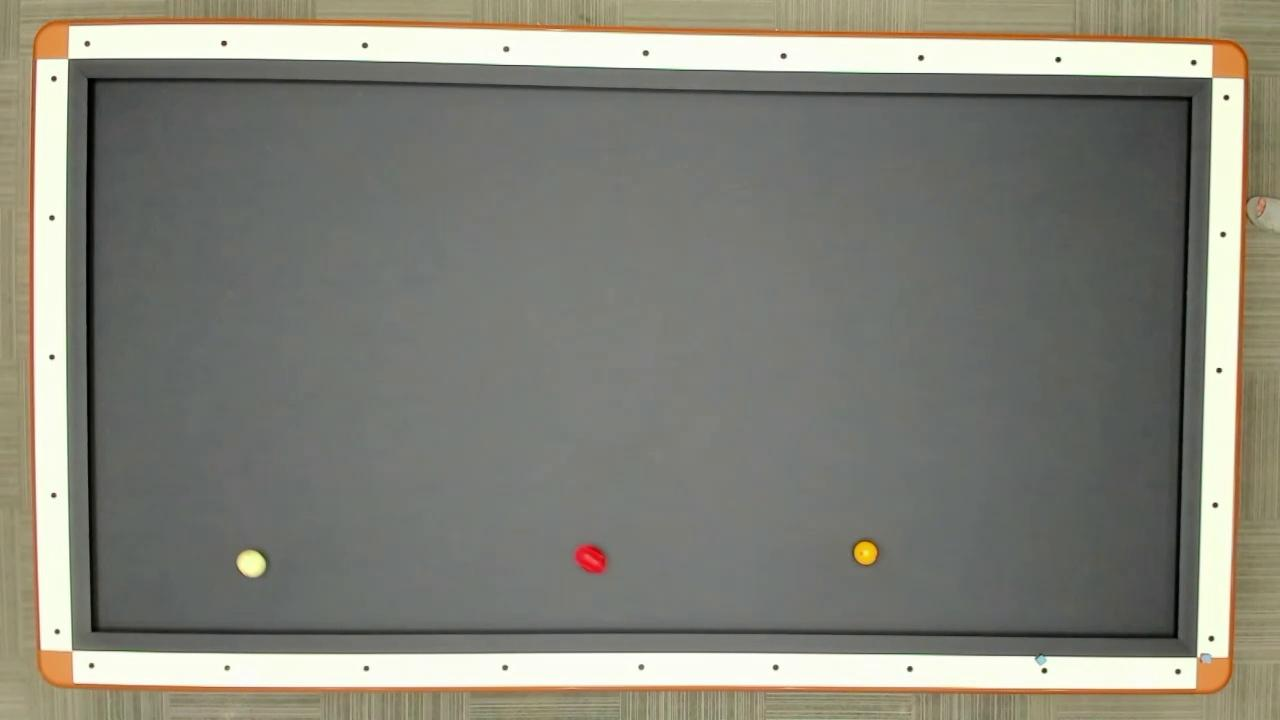Red: (572, 542, 608, 576)
White: (235, 548, 268, 579)
Yellow: (851, 539, 880, 567)
